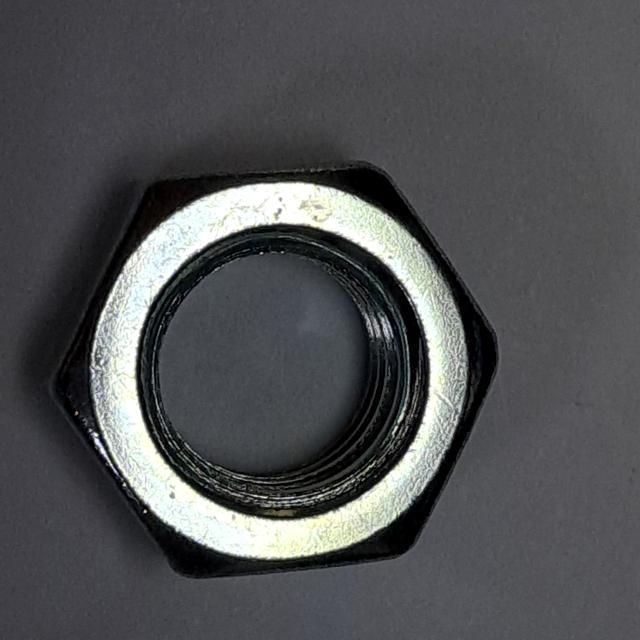Excellent: (32, 143, 511, 595)
